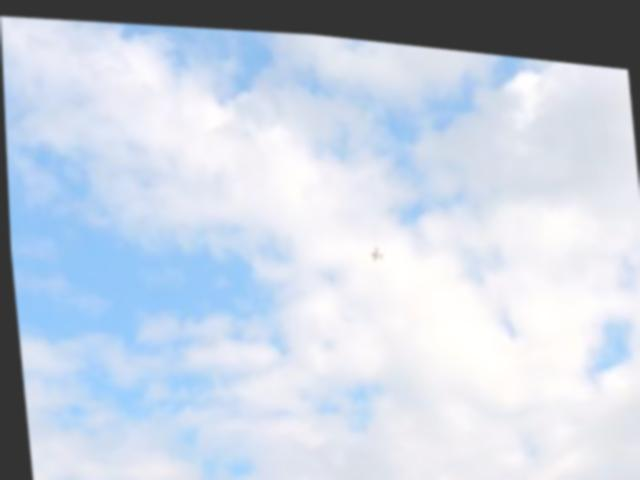uav: (367, 233, 384, 260)
